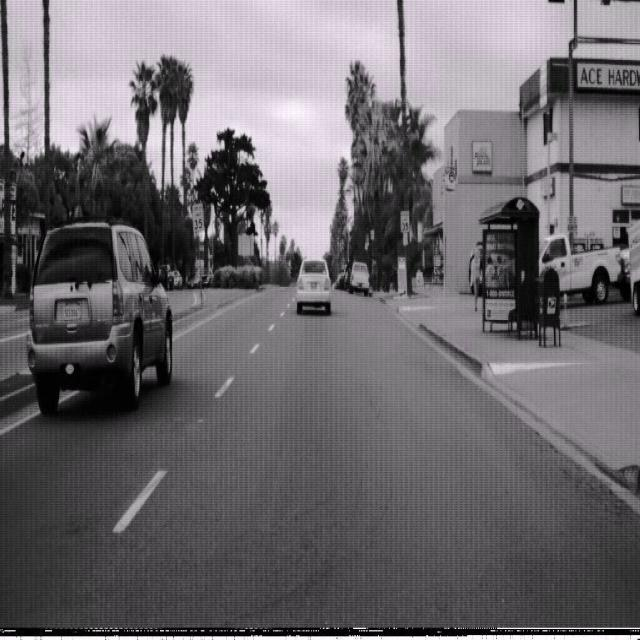speedLimit35: (192, 201, 204, 234), (400, 208, 409, 233)
